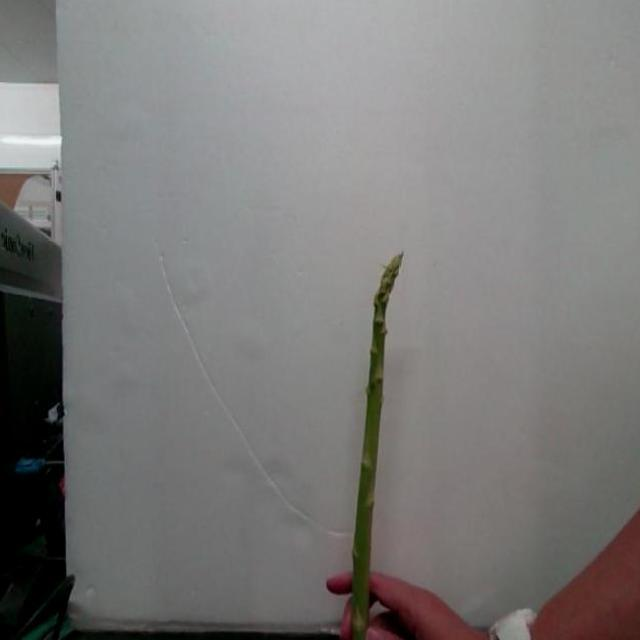aspargus: (347, 255, 402, 640)
